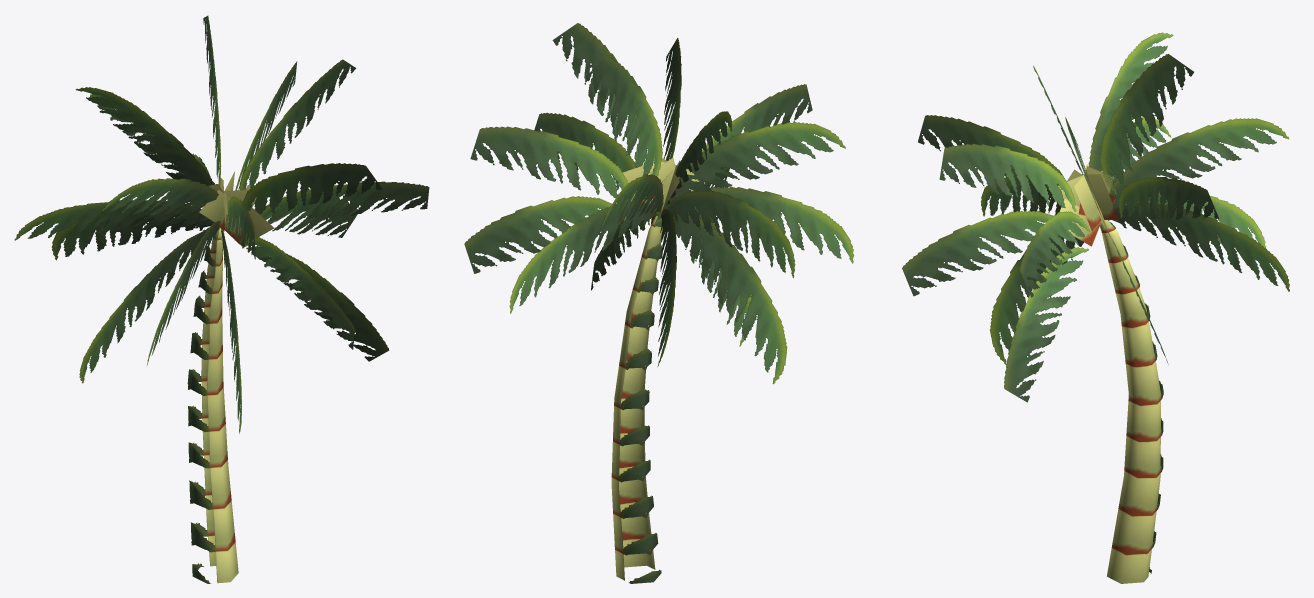
File: TropicalTree.fbx
3 renders of one model, left to right at view 1: azimuth 30°, elevation 25°; view 2: azimuth 150°, elevation 25°; view 3: azimuth 270°, elevation 25°, orthographic. The views are drawn at different scales.
Parts seen in each view (by area): view 1: TreeC.095; view 2: TreeC.095; view 3: TreeC.095.
Part boxes in pixels (bbox=[...]): TreeC.095: bbox=[14, 15, 429, 583]; TreeC.095: bbox=[464, 23, 853, 583]; TreeC.095: bbox=[902, 32, 1289, 583].
Size of the model in its own units: 117 by 173 by 119.
Materials: 1 (1 with a texture image).
